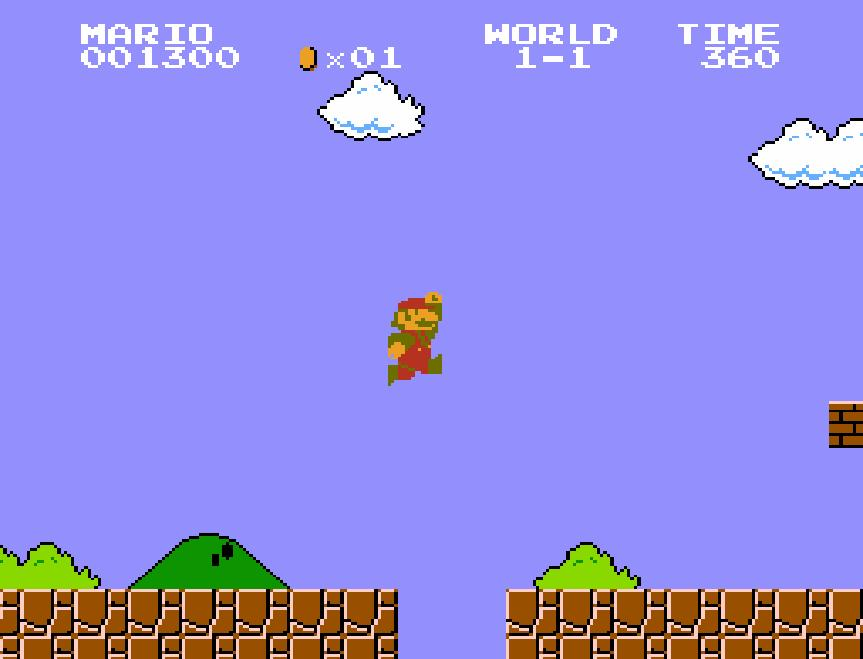big_mario: (386, 289, 444, 388)
